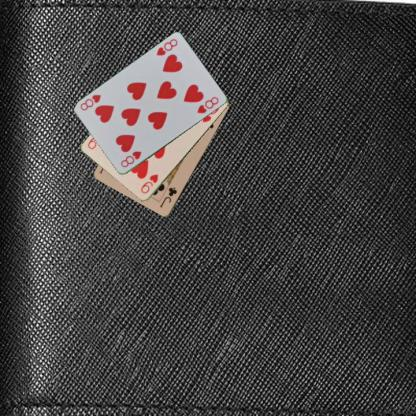8h: (118, 148, 143, 170), (154, 36, 179, 58)
9h: (138, 172, 160, 195)
Jc: (157, 185, 179, 209)
